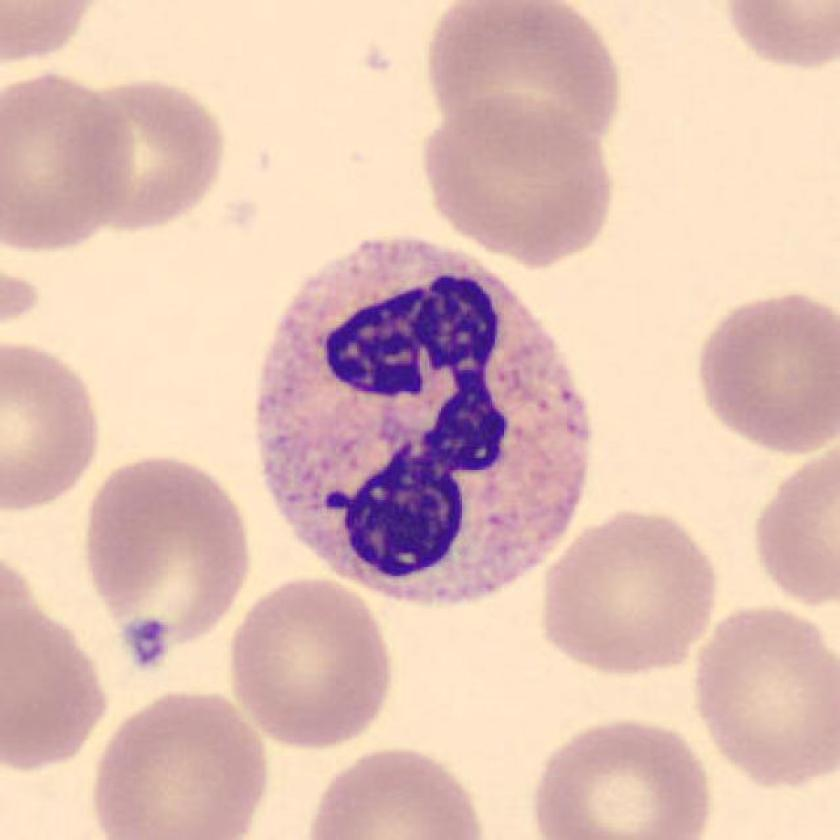neutrophil: (257, 237, 589, 593)
